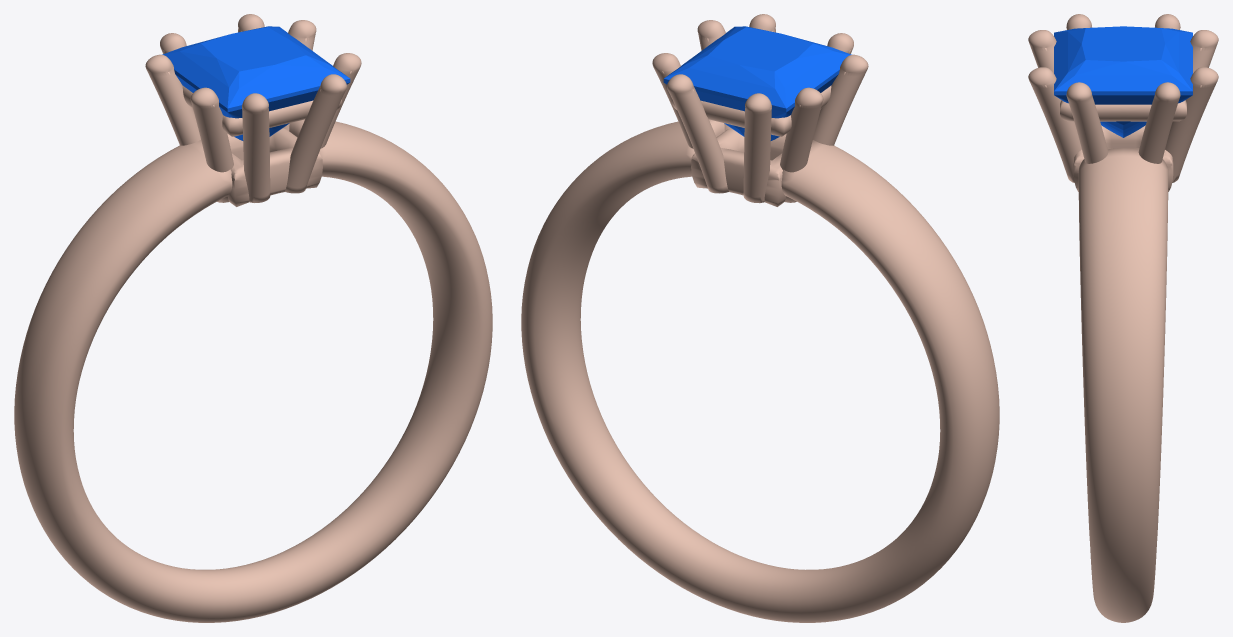
The model's file is bluesapphire-princess-rosegold-8prong-taperedband-solitaire.glb.
The picture shows the model from 3 angles, left to right: view 1: azimuth 30°, elevation 25°; view 2: azimuth 150°, elevation 25°; view 3: azimuth 270°, elevation 25°; orthographic projection.
Visible parts, largest first — view 1: metal, stone; view 2: metal, stone; view 3: metal, stone.
Boxes of the visible parts, left/top/right/bottom form: metal: left=14, top=14, right=492, bottom=622; stone: left=162, top=26, right=350, bottom=140; metal: left=521, top=14, right=999, bottom=622; stone: left=663, top=26, right=851, bottom=140; metal: left=1028, top=14, right=1218, bottom=622; stone: left=1054, top=26, right=1192, bottom=137.
Size of the model in its own units: 20.5 by 23.85 by 7.42.
